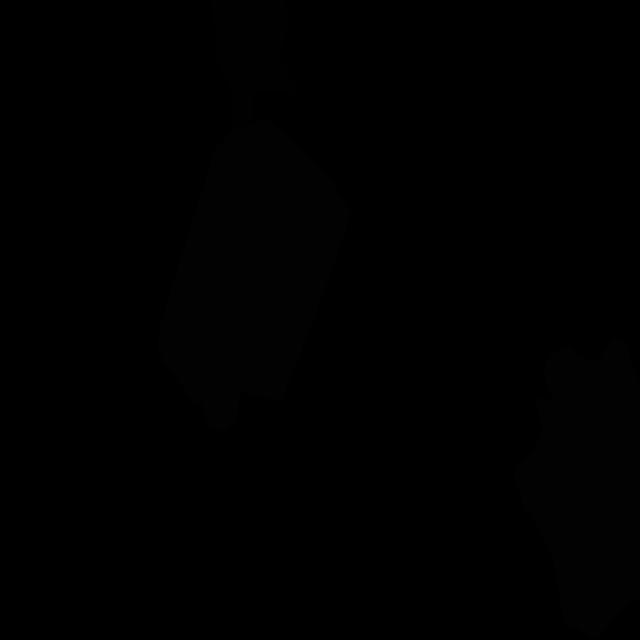cardboard: (158, 118, 352, 433), (514, 337, 640, 640)
rigid_plastic: (210, 0, 300, 130)
